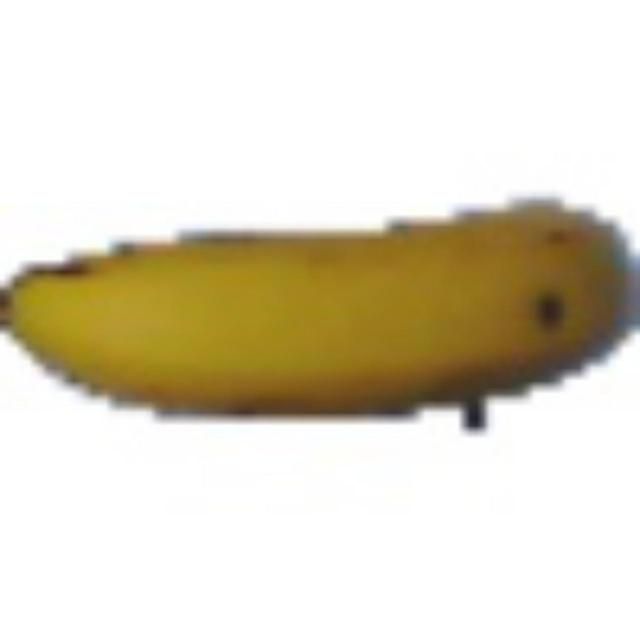banana: (0, 190, 638, 434)
